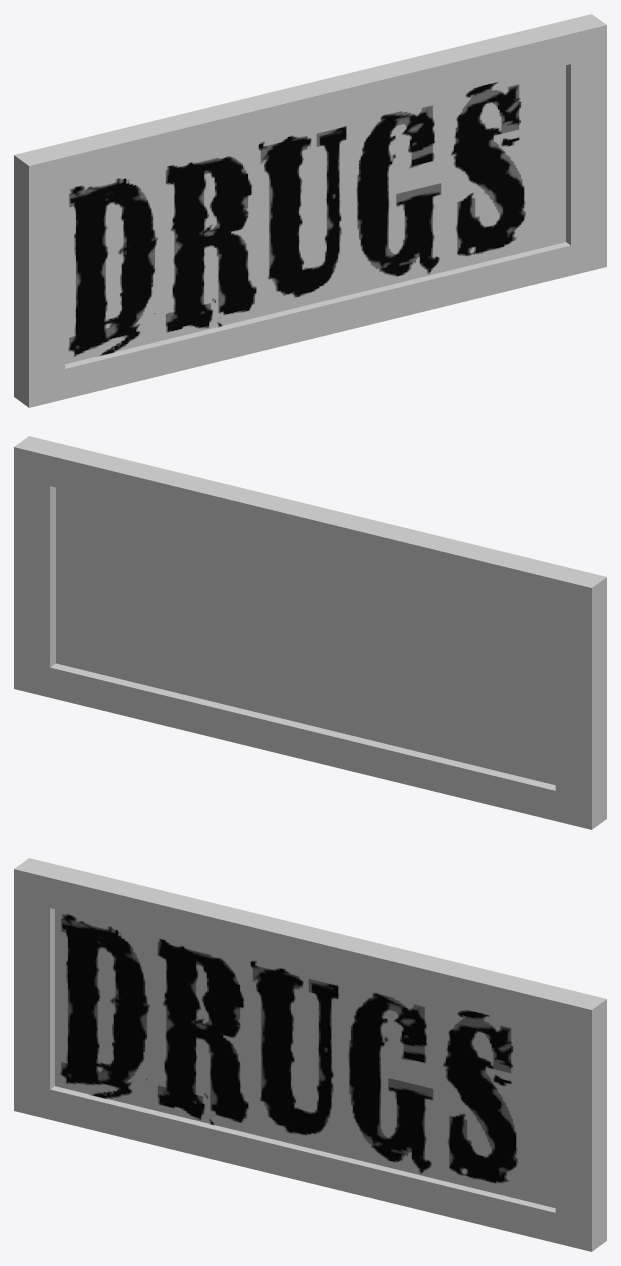
File: SignBoard_6.fbx
3 views of the same model, one above another, from view 1: azimuth 30°, elevation 25°; view 2: azimuth 150°, elevation 25°; view 3: azimuth 330°, elevation 25° (orthographic).
Parts seen in each view (by area): view 1: SignBoard_6; view 2: SignBoard_6; view 3: SignBoard_6.
Part boxes in pixels (bbox=[...]): SignBoard_6: bbox=[14, 14, 606, 407]; SignBoard_6: bbox=[14, 436, 606, 829]; SignBoard_6: bbox=[14, 858, 606, 1251].
Bounding box in the file's own units: 2 × 0.8 × 0.0909.
